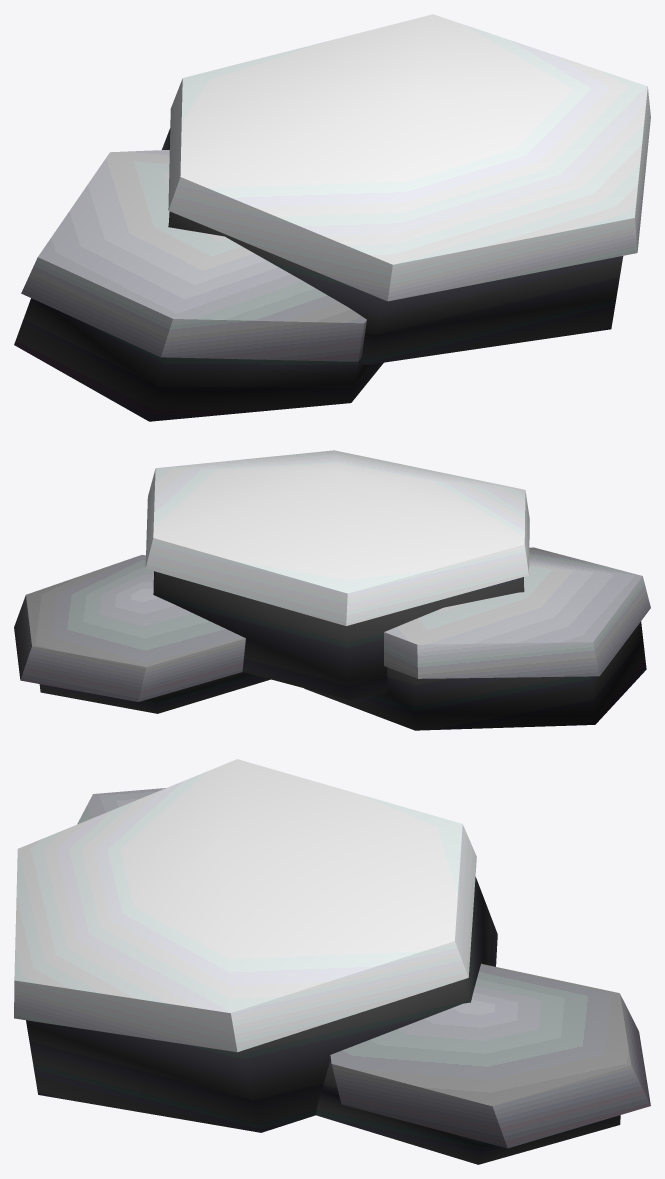
The model's file is SM_Rocks_L.fbx.
3 renders of one model, top to bottom at view 1: azimuth 30°, elevation 25°; view 2: azimuth 150°, elevation 25°; view 3: azimuth 270°, elevation 25°, orthographic. The views are drawn at different scales.
Parts seen in each view (by area): view 1: Rocks_L_Snow, Rocks_L; view 2: Rocks_L_Snow, Rocks_L; view 3: Rocks_L_Snow, Rocks_L.
Boxes of the visible parts, bbox=[...] form: Rocks_L_Snow: bbox=[21, 14, 650, 361]; Rocks_L: bbox=[14, 128, 623, 421]; Rocks_L_Snow: bbox=[14, 450, 650, 701]; Rocks_L: bbox=[39, 571, 646, 730]; Rocks_L_Snow: bbox=[14, 759, 650, 1148]; Rocks_L: bbox=[26, 877, 620, 1164].
Size of the model in its own units: 6.2 by 2.22 by 5.24.
